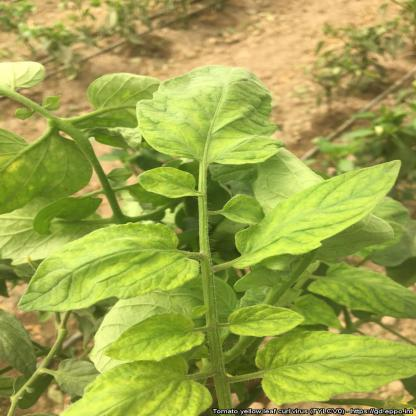tomato leaf yellow virus: (15, 222, 185, 324), (133, 59, 286, 169), (243, 323, 416, 414), (239, 160, 396, 260), (84, 296, 222, 368)
